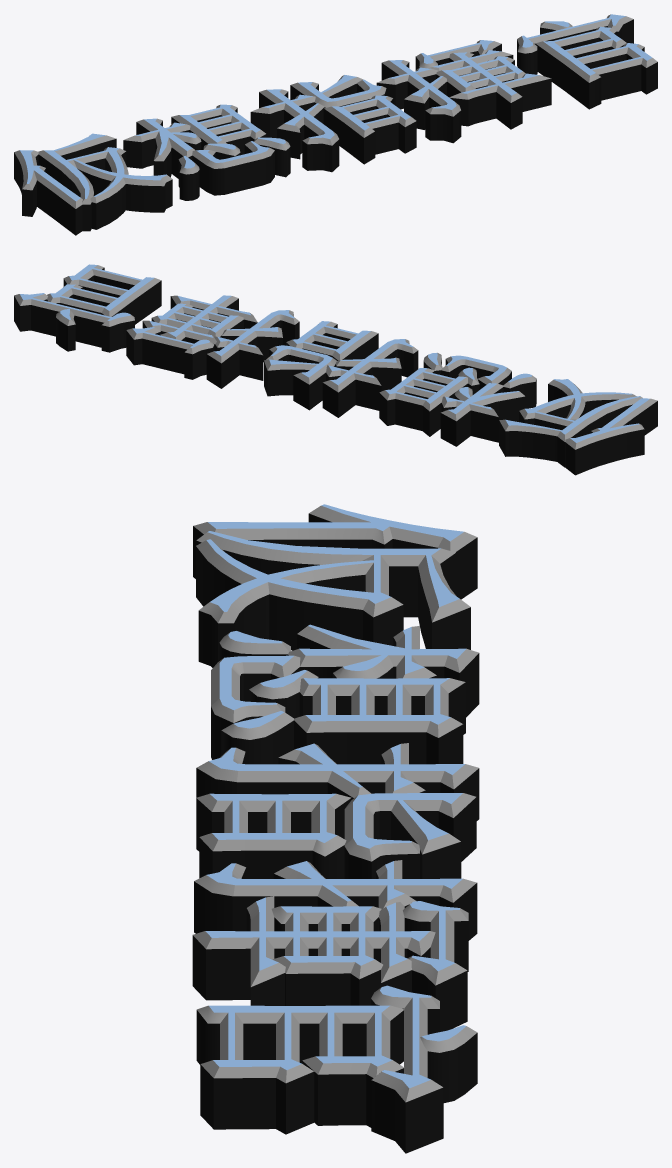
Rendered from japanese.FBX.
The picture shows the model from 3 angles, top to bottom: view 1: azimuth 30°, elevation 25°; view 2: azimuth 150°, elevation 25°; view 3: azimuth 270°, elevation 25°; orthographic projection. The views are drawn at different scales.
Visible parts, largest first — view 1: Text011; view 2: Text011; view 3: Text011.
Part boxes in pixels (<box>): Text011: <box>14,14,657,235</box>; Text011: <box>14,264,657,475</box>; Text011: <box>192,504,479,1153</box>.
Size of the model in its own units: 49.87 by 10.16 by 2.3.
